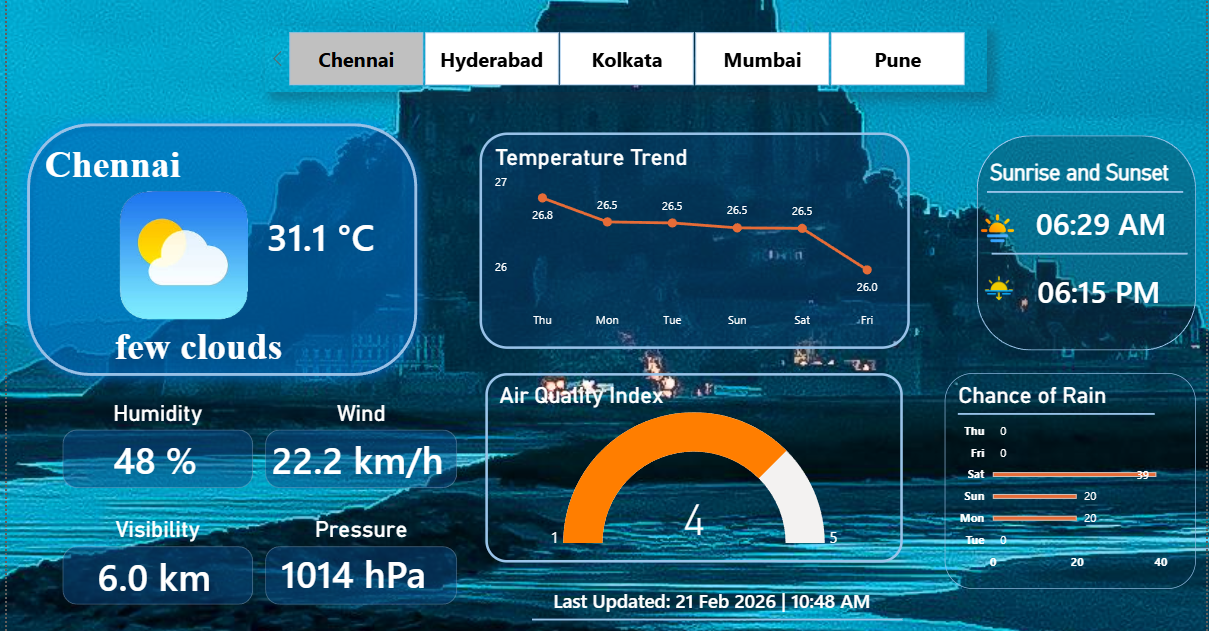

This screenshot's page, from the dashboard's own definition file:
{"tool":"powerbi","page":{"name":"Page 1","canvas":[1280,720],"ordinal":0},"visuals":[{"type":"slicer","fields":{"Values":["Weather_AllCities.city"]},"box":[275.6,37.4,770.7,70.1],"z":0},{"type":"shape","box":[9.2,128.6,440.8,293.9],"z":1000},{"type":"cardVisual","fields":{"Rows":["Weather_AllCities.city"]},"box":[23,143.9,270.9,139.3],"z":2000},{"type":"cardVisual","fields":{"Rows":["Weather_AllCities.weather.description"]},"box":[98,333.6,307.6,176],"z":3000},{"type":"cardVisual","fields":{"Data":["Weather_AllCities.Temperature Display"]},"box":[218.9,209.7,231.1,101],"z":4000},{"type":"shape","title":"Humidity","box":[59.7,436.2,203.6,94.9],"z":5000},{"type":"shape","title":"Visibility ","box":[59.7,560.2,203.6,94.9],"z":6000},{"type":"shape","title":"Wind","box":[275.5,436.2,205.1,94.9],"z":7000},{"type":"shape","title":"Pressure ","box":[275.5,560.2,205.1,94.9],"z":8000},{"type":"cardVisual","fields":{"Data":["Weather_AllCities.Humidity Display"]},"box":[70.4,454.6,177.5,87.2],"z":9000},{"type":"cardVisual","fields":{"Data":["Weather_AllCities.Wind Display"]},"box":[244.9,457.6,260.2,81.1],"z":10000},{"type":"cardVisual","fields":{"Data":["Weather_AllCities.Pressure Display"]},"box":[260.2,567.8,220.4,102.5],"z":11000},{"type":"cardVisual","fields":{"Data":["Weather_AllCities.Visibility Display"]},"box":[53.6,581.6,209.7,81.1],"z":12000},{"type":"image","box":[82.6,203.6,212.7,156.1],"z":13000},{"type":"lineChart","title":"Temperature Trend","fields":{"Y":["Weather_Forecast_AllCities.Daily Avg Temp1"],"Category":["Weather_Forecast_AllCities.Day Name"]},"box":[505.1,151.5,459.1,231.1],"z":14000},{"type":"clusteredBarChart","title":"Chance of Rain ","fields":{"Category":["Weather_Forecast_AllCities.Day Name"],"Y":["Weather_Forecast_AllCities.Daily Rain %"]},"box":[1001.1,407.9,267.8,230.4],"z":15000},{"type":"shape","title":"Sunrise and Sunset","box":[1036.1,154.6,234.2,229.6],"z":16000},{"type":"cardVisual","fields":{"Data":["Weather_AllCities.Sunrise Display"]},"box":[1069.8,209.7,200.5,75],"z":17000},{"type":"cardVisual","fields":{"Data":["Weather_AllCities.Sunset Display"]},"box":[1071.3,278.5,200.5,81.1],"z":18000},{"type":"shape","box":[1051.4,247.9,209.7,65.8],"z":19000},{"type":"textbox","box":[1045.3,174.5,220.4,56.6],"z":20000},{"type":"shape","box":[1046.9,191.3,209.7,45.9],"z":21000},{"type":"image","box":[1033.1,232.6,47.4,42.9],"z":22000},{"type":"image","box":[1036.1,300,47.4,33.7],"z":23000},{"type":"cardVisual","fields":{"Data":["Weather_AllCities.Last Updated"]},"box":[554.3,599.4,401.7,99.6],"z":24000},{"type":"shape","box":[1015.1,418.8,210.2,65.4],"z":25000},{"type":"gauge","title":"Air Quality Index","fields":{"Y":["Weather_AllCities.AQI Value1"]},"box":[511.2,408.6,445.4,202],"z":26000},{"type":"shape","box":[560.5,649.3,395.5,43.6],"z":27000}]}

Visuals, with their boxes on the page's 1280x720 design canvas (x1, y1, x2, y2). These are canvas units, not pixel positions in the 1209x631 screenshot, which may show the page scaled, cropped or inside an application window:
slicer - Weather_AllCities.city: region(276, 37, 1046, 108)
shape: region(9, 129, 450, 422)
cardVisual - Weather_AllCities.city: region(23, 144, 294, 283)
cardVisual - Weather_AllCities.weather.description: region(98, 334, 406, 510)
cardVisual - Weather_AllCities.Temperature Display: region(219, 210, 450, 311)
"Humidity" shape: region(60, 436, 263, 531)
"Visibility " shape: region(60, 560, 263, 655)
"Wind" shape: region(276, 436, 481, 531)
"Pressure " shape: region(276, 560, 481, 655)
cardVisual - Weather_AllCities.Humidity Display: region(70, 455, 248, 542)
cardVisual - Weather_AllCities.Wind Display: region(245, 458, 505, 539)
cardVisual - Weather_AllCities.Pressure Display: region(260, 568, 481, 670)
cardVisual - Weather_AllCities.Visibility Display: region(54, 582, 263, 663)
image: region(83, 204, 295, 360)
"Temperature Trend" lineChart: region(505, 152, 964, 383)
"Chance of Rain " clusteredBarChart: region(1001, 408, 1269, 638)
"Sunrise and Sunset" shape: region(1036, 155, 1270, 384)
cardVisual - Weather_AllCities.Sunrise Display: region(1070, 210, 1270, 285)
cardVisual - Weather_AllCities.Sunset Display: region(1071, 278, 1272, 360)
shape: region(1051, 248, 1261, 314)
textbox: region(1045, 174, 1266, 231)
shape: region(1047, 191, 1257, 237)
image: region(1033, 233, 1080, 276)
image: region(1036, 300, 1084, 334)
cardVisual - Weather_AllCities.Last Updated: region(554, 599, 956, 699)
shape: region(1015, 419, 1225, 484)
"Air Quality Index" gauge: region(511, 409, 957, 611)
shape: region(560, 649, 956, 693)
